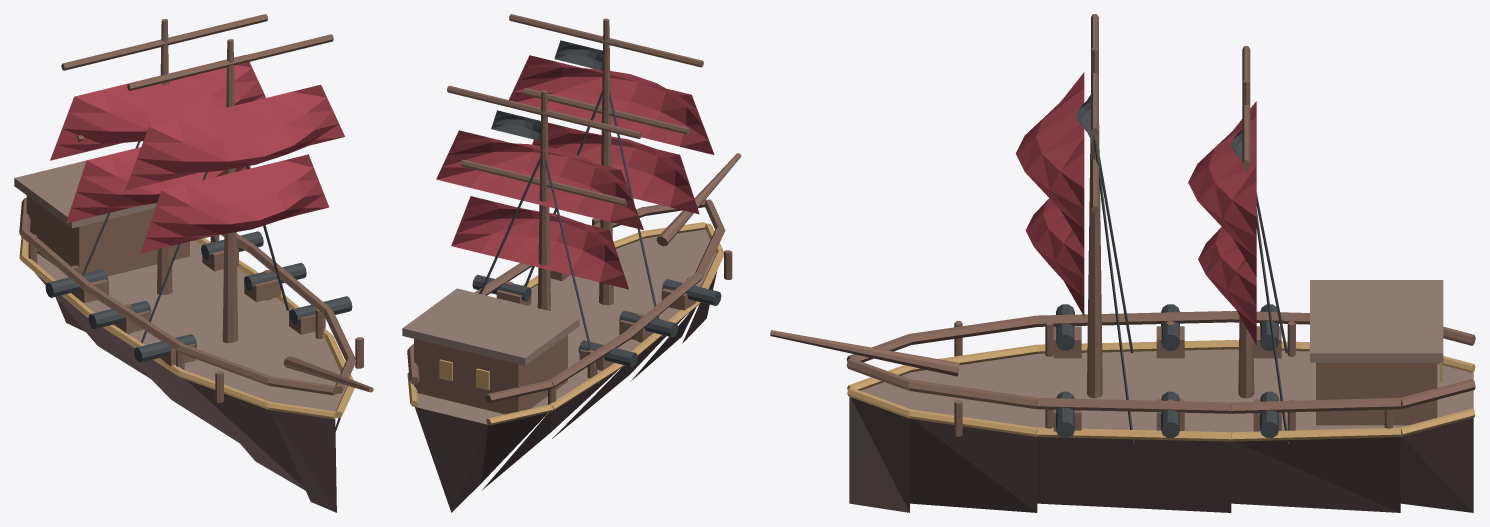
File: npc_raider_01.glb
3 views of the same model, side by side, from view 1: azimuth 30°, elevation 25°; view 2: azimuth 150°, elevation 25°; view 3: azimuth 270°, elevation 25° (orthographic). The views are drawn at different scales.
Parts seen in each view (by area): view 1: M295_Raider_Complete_Ship_Placeholder; view 2: M295_Raider_Complete_Ship_Placeholder; view 3: M295_Raider_Complete_Ship_Placeholder.
Part boxes in pixels (x1,y1,x2,y2): M295_Raider_Complete_Ship_Placeholder: (14, 14, 373, 512); M295_Raider_Complete_Ship_Placeholder: (402, 14, 741, 512); M295_Raider_Complete_Ship_Placeholder: (770, 14, 1475, 512).
Size of the model in its own units: 2.96 by 5.16 by 7.12.
